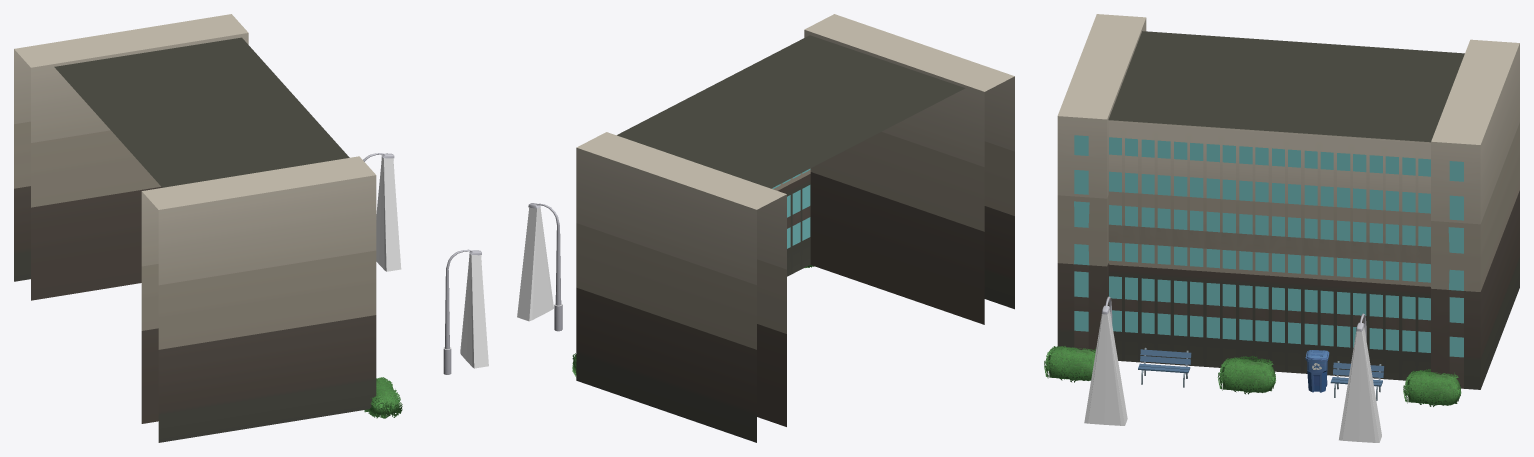
Rendered from Bilding_4 (9).fbx.
The picture shows the model from 3 angles, left to right: view 1: azimuth 30°, elevation 25°; view 2: azimuth 150°, elevation 25°; view 3: azimuth 270°, elevation 25°; orthographic projection. The views are drawn at different scales.
Visible parts, largest first — view 1: Bilding_17_1, FX_Lamp, FX_Lamp_1, Bush_2, Lamp_2; view 2: Bilding_17_1, FX_Lamp_1, Lamp_2_1; view 3: Bilding_17_1, FX_Lamp, FX_Lamp_1, Bush, Bush_1, Bush_2, Bench_1_1, trash_can, Bench_1, Capsule_1, Capsule.
Part boxes in pixels (x1,y1,x2,y2): Bilding_17_1: (14,14,376,442); FX_Lamp: (460,254,488,368); FX_Lamp_1: (376,157,401,271); Bush_2: (364,377,402,418); Lamp_2: (443,249,481,374); Bilding_17_1: (576,14,1014,442); FX_Lamp_1: (517,205,553,321); Lamp_2_1: (528,203,562,331); Bilding_17_1: (1057,14,1519,389); FX_Lamp: (1084,310,1127,425); FX_Lamp_1: (1339,327,1381,442); Bush: (1217,356,1275,394); Bush_1: (1403,369,1461,406); Bush_2: (1044,346,1095,382); Bench_1_1: (1138,347,1191,387); trash_can: (1305,350,1329,392); Bench_1: (1330,361,1384,400); Capsule_1: (1407,374,1460,405); Capsule: (1221,361,1274,392).
Bounding box in the file's own units: 1033 × 668 × 1118.
